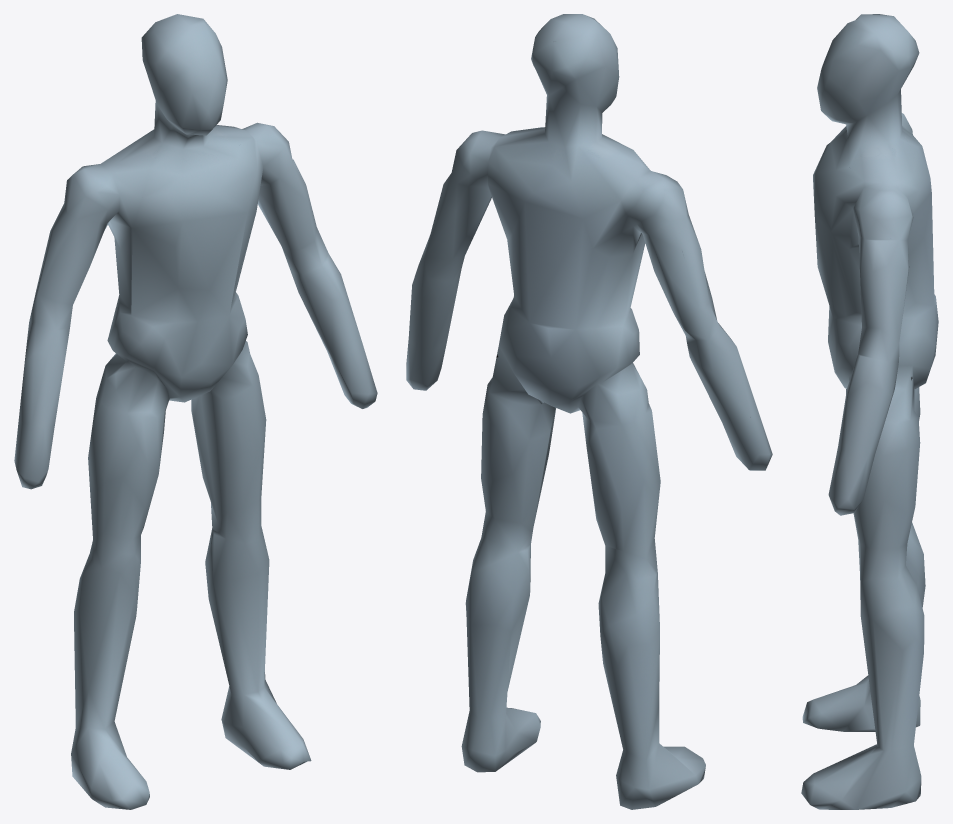
Rendered from Meshy_AI_Blue_Articulated_Mann_0526130405_texture.glb.
The picture shows the model from 3 angles, left to right: view 1: azimuth 30°, elevation 25°; view 2: azimuth 150°, elevation 25°; view 3: azimuth 270°, elevation 25°; orthographic projection.
Visible parts, largest first — view 1: Mesh1.0; view 2: Mesh1.0; view 3: Mesh1.0.
Boxes of the visible parts, left/top/right/bottom form: Mesh1.0: left=14, top=14, right=377, bottom=809; Mesh1.0: left=406, top=14, right=772, bottom=809; Mesh1.0: left=801, top=14, right=938, bottom=809.
Bounding box in the file's own units: 0.9568 × 1.91 × 0.3191.
1 material, 1 textured.
